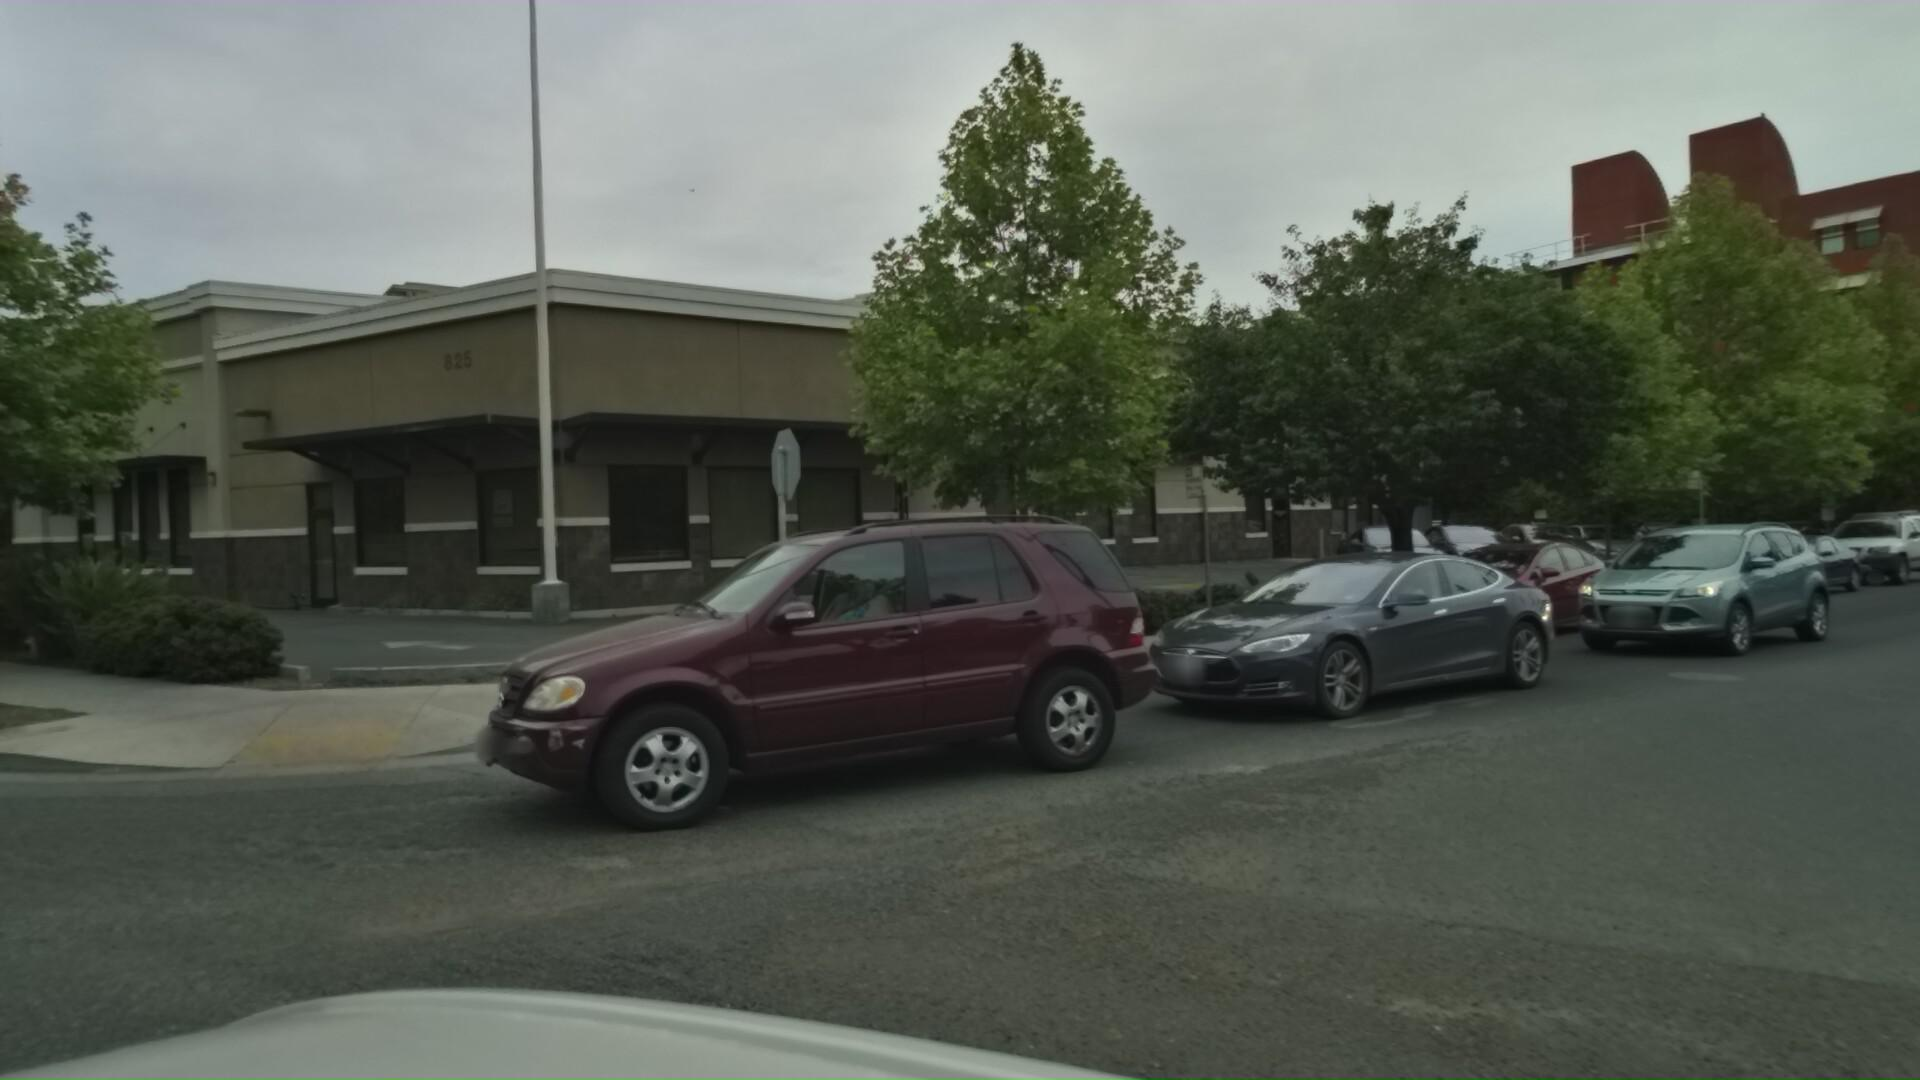car: (484, 500, 1265, 920), (1134, 531, 1633, 769), (1565, 509, 1898, 673), (1406, 527, 1659, 659), (1582, 527, 1793, 629), (1727, 525, 1890, 603), (1348, 516, 1480, 585), (1425, 516, 1560, 582), (1821, 502, 1920, 587), (1501, 516, 1627, 574), (1556, 512, 1683, 567), (1635, 513, 1720, 553)
